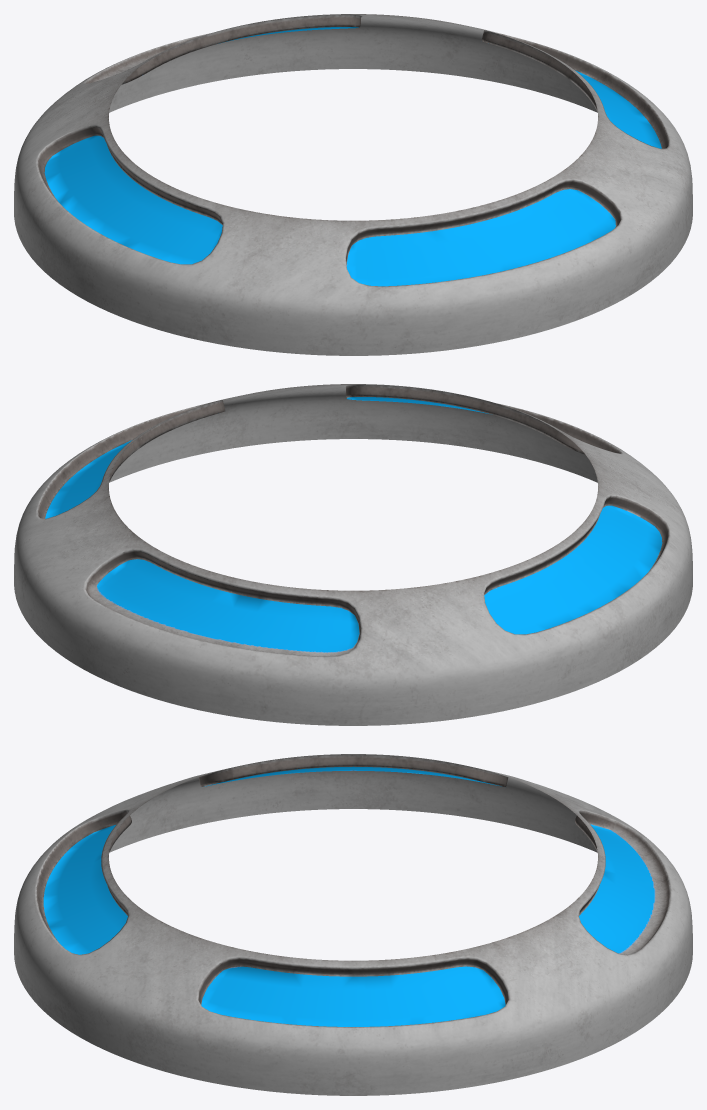
File: button_body.dae
The picture shows the model from 3 angles, top to bottom: view 1: azimuth 30°, elevation 25°; view 2: azimuth 150°, elevation 25°; view 3: azimuth 270°, elevation 25°; orthographic projection.
Visible parts, largest first — view 1: button_body; view 2: button_body; view 3: button_body.
Boxes of the visible parts, bbox=[...] form: button_body: bbox=[14, 14, 692, 355]; button_body: bbox=[14, 384, 692, 725]; button_body: bbox=[14, 754, 692, 1095].
Size of the model in its own units: 1.66 by 1.66 by 0.2559.
Materials: 1 (1 with a texture image).
